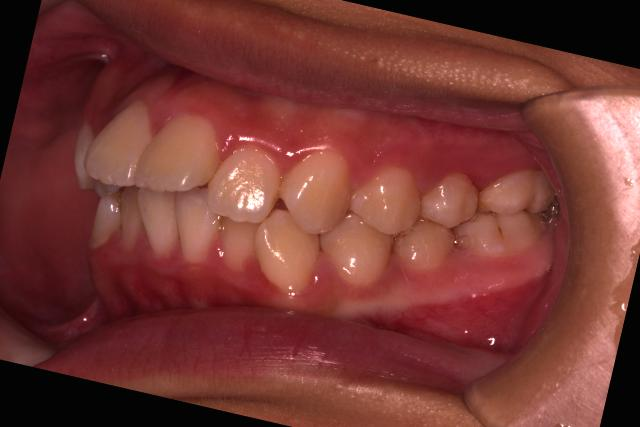canine class II 1/4: (242, 126, 414, 320)
molar class III 1/4: (441, 144, 568, 274)
